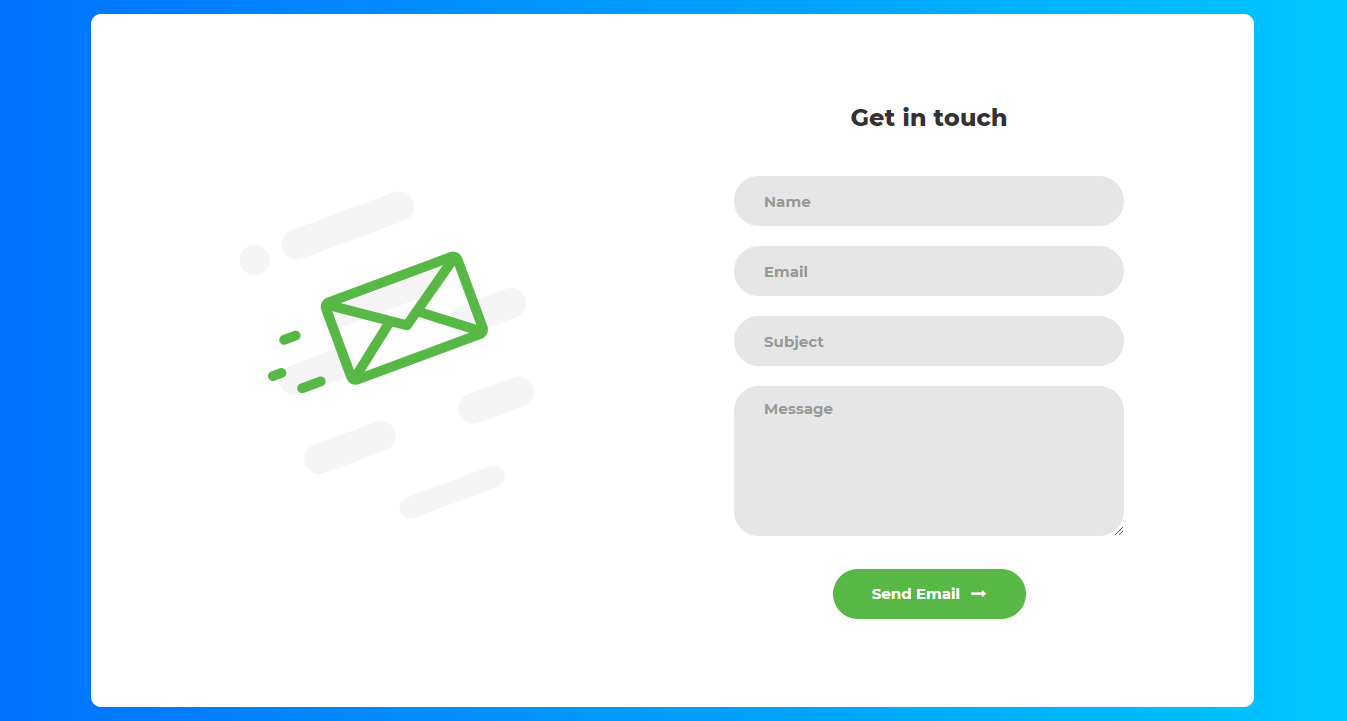button: (831, 565, 1025, 622)
field: (730, 383, 1129, 539), (734, 170, 1129, 231), (731, 244, 1131, 298), (733, 315, 1124, 369)
